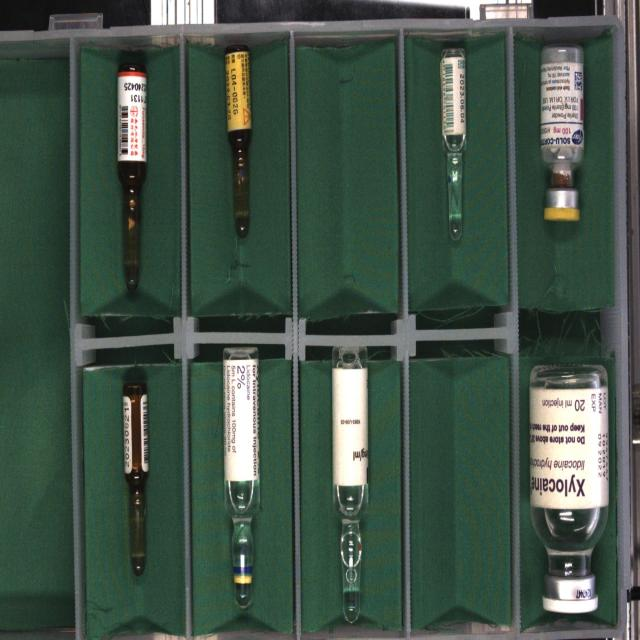Vials: (530, 366, 609, 613), (540, 45, 584, 222)
